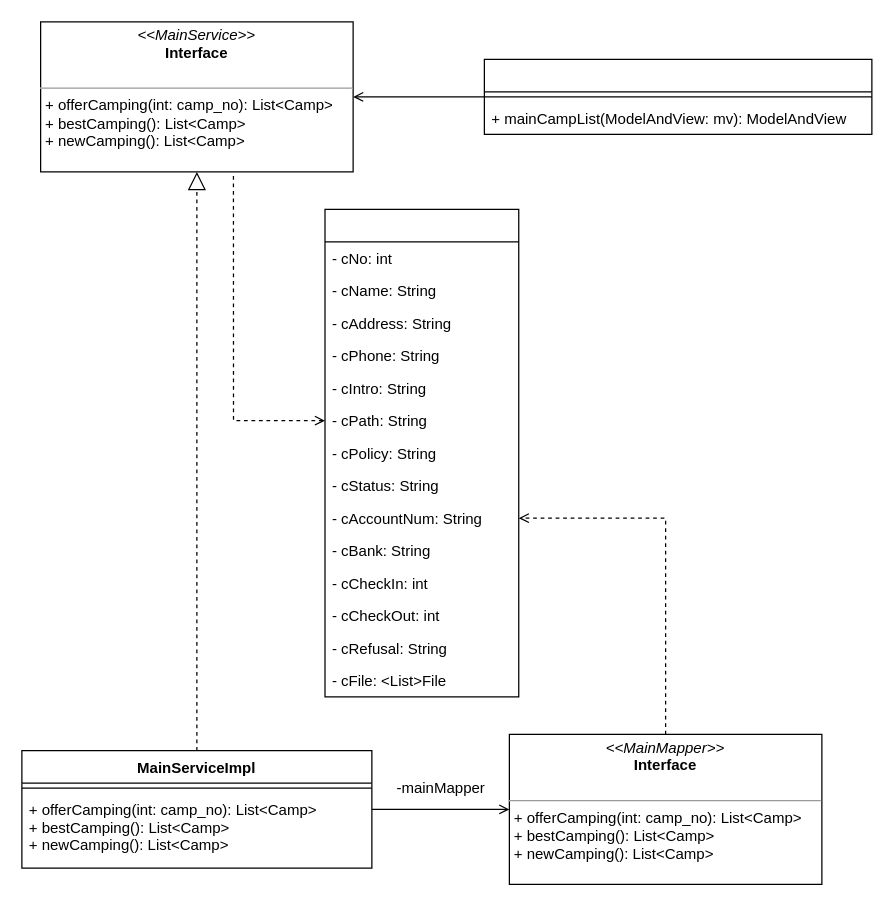
This 894x906 diagram has some shape labels left out. The box of each missing label's shape, as (x1, y1, x2, y2) in pixels:
Camp: (324, 208, 519, 697)
MainController: (483, 58, 872, 134)
